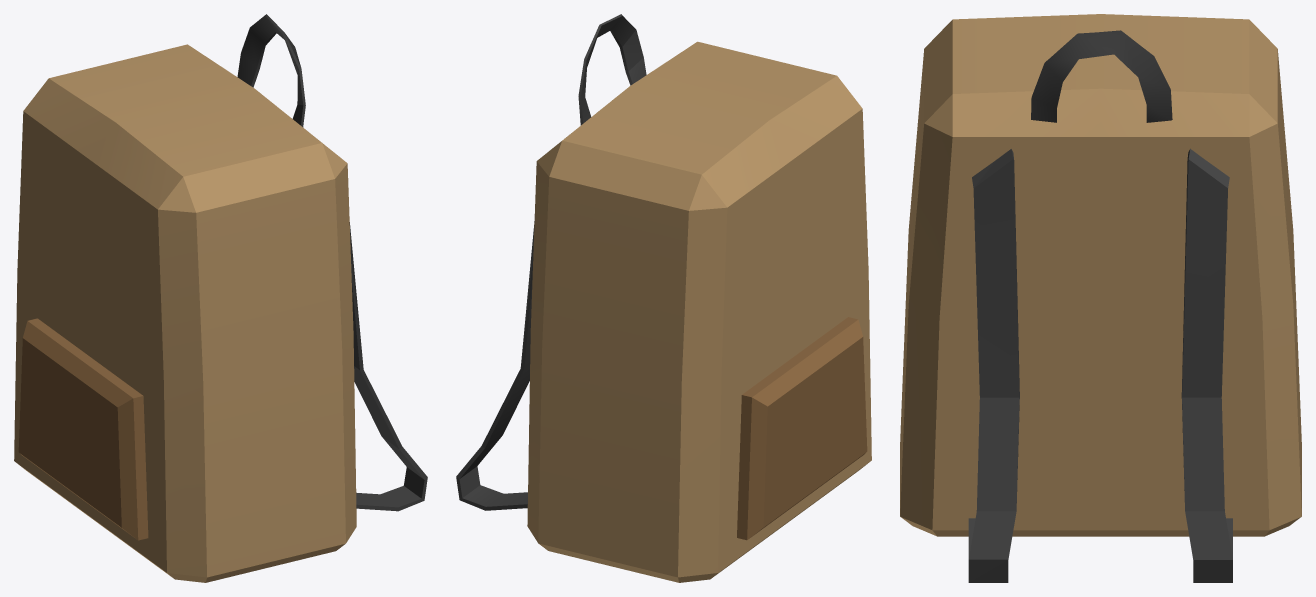
Rendered from Sac_A_Dos_Beige.fbx.
The picture shows the model from 3 angles, left to right: view 1: azimuth 30°, elevation 25°; view 2: azimuth 150°, elevation 25°; view 3: azimuth 270°, elevation 25°; orthographic projection. The views are drawn at different scales.
Visible parts, largest first — view 1: Sac_A_Dos_Beige; view 2: Sac_A_Dos_Beige; view 3: Sac_A_Dos_Beige.
Boxes of the visible parts, x1=… form: Sac_A_Dos_Beige: x1=14, y1=14, x2=427, y2=582; Sac_A_Dos_Beige: x1=456, y1=14, x2=871, y2=582; Sac_A_Dos_Beige: x1=900, y1=14, x2=1301, y2=582.
Bounding box in the file's own units: 31.79 × 47.12 × 33.7.
1 material, 1 textured.
